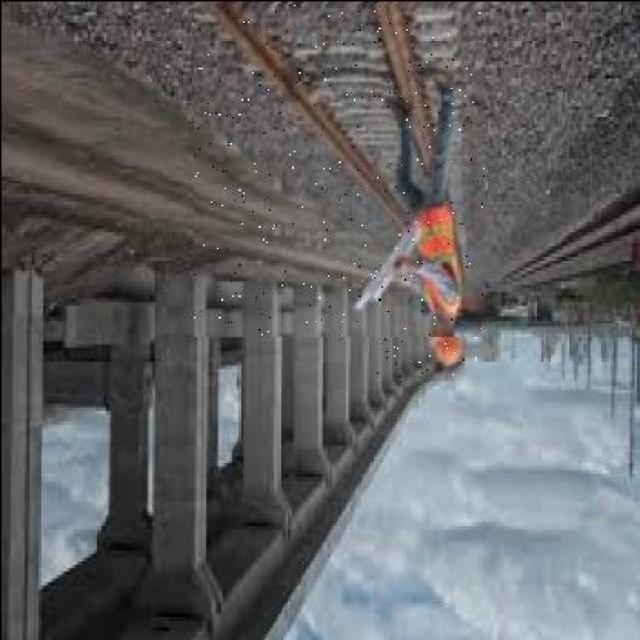danger: (374, 86, 483, 379)
rail: (193, 3, 478, 334)
